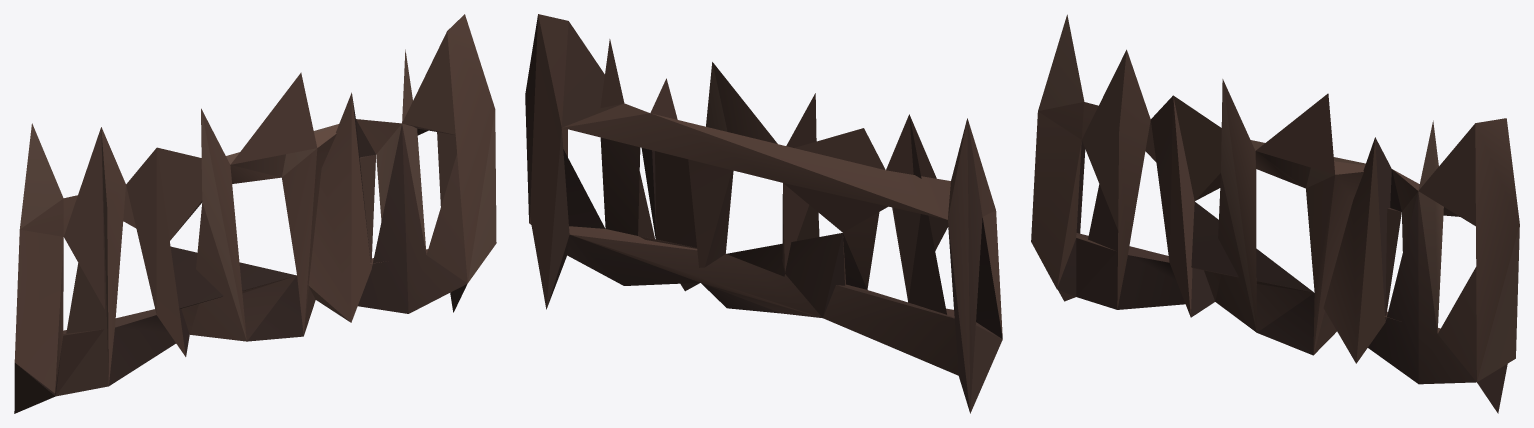
The model's file is bg_field_fence_1_lod2.glb.
3 renders of one model, left to right at view 1: azimuth 30°, elevation 25°; view 2: azimuth 150°, elevation 25°; view 3: azimuth 330°, elevation 25°, orthographic. The views are drawn at different scales.
Parts seen in each view (by area): view 1: body; view 2: body; view 3: body.
Part boxes in pixels (x1,y1,x2,y2): body: (14, 14, 496, 413); body: (525, 14, 1002, 413); body: (1031, 14, 1519, 413).
Bounding box in the file's own units: 2.23 × 1.32 × 0.1921.
